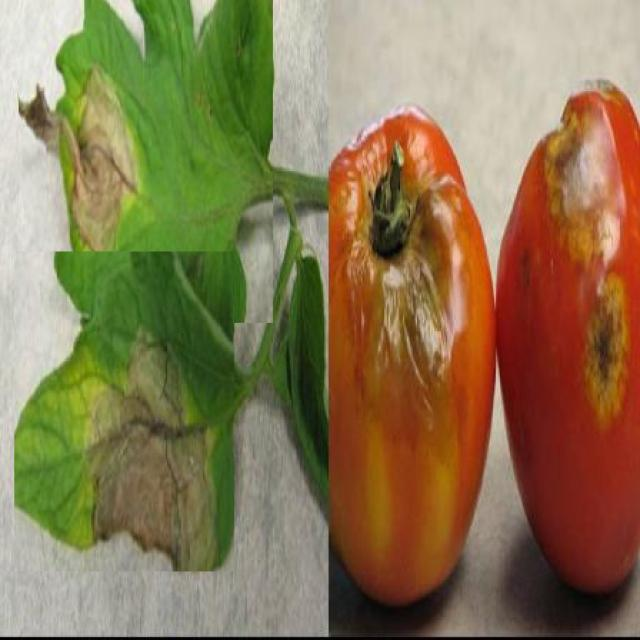Late Blight: (19, 0, 274, 323), (15, 252, 234, 571)
